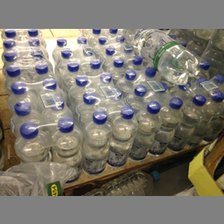water: (122, 28, 197, 88), (51, 116, 81, 183), (82, 111, 111, 175), (110, 108, 138, 167), (137, 101, 160, 160)
